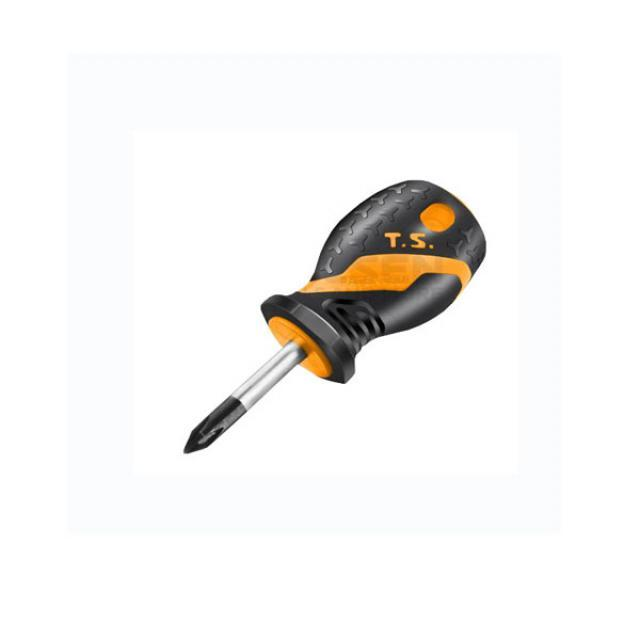screwdriver: (180, 174, 490, 463)
